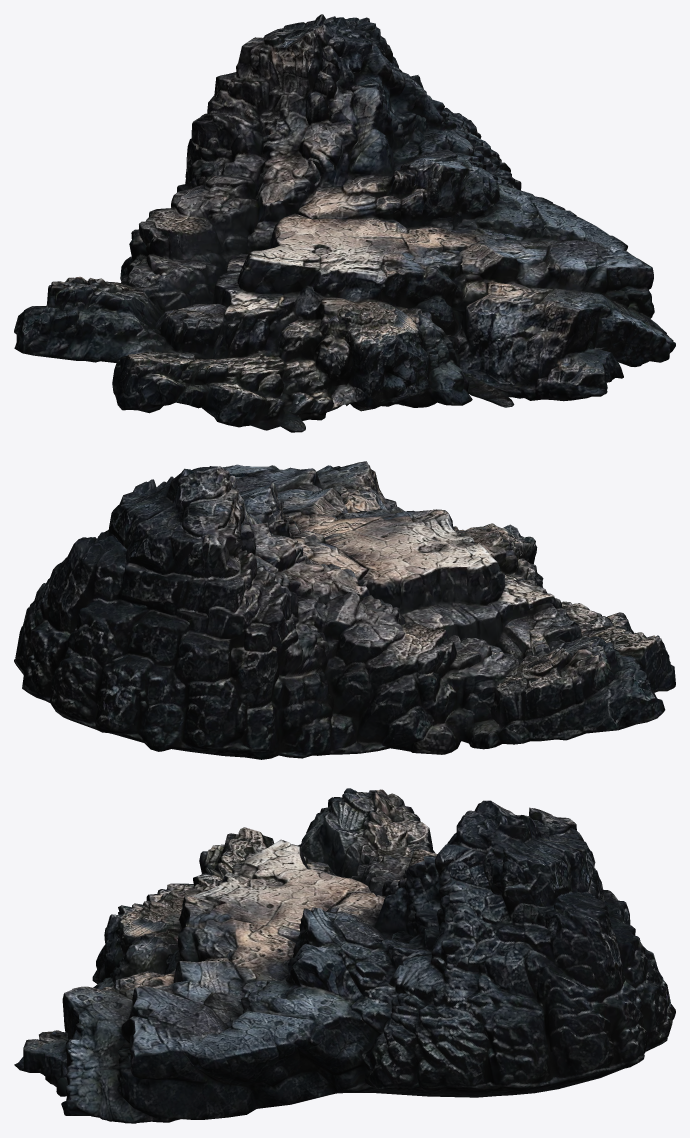
The model's file is perch-rock.glb.
3 renders of one model, top to bottom at view 1: azimuth 30°, elevation 25°; view 2: azimuth 150°, elevation 25°; view 3: azimuth 270°, elevation 25°, orthographic. The views are drawn at different scales.
Parts seen in each view (by area): view 1: perch-rock; view 2: perch-rock; view 3: perch-rock.
Part boxes in pixels (box(x1,y1,x2,y2)): perch-rock: box(14, 14, 675, 432); perch-rock: box(14, 461, 675, 759); perch-rock: box(14, 788, 675, 1123).
Bounding box in the file's own units: 0.9632 × 0.4033 × 0.966.
Materials: 1 (1 with a texture image).
